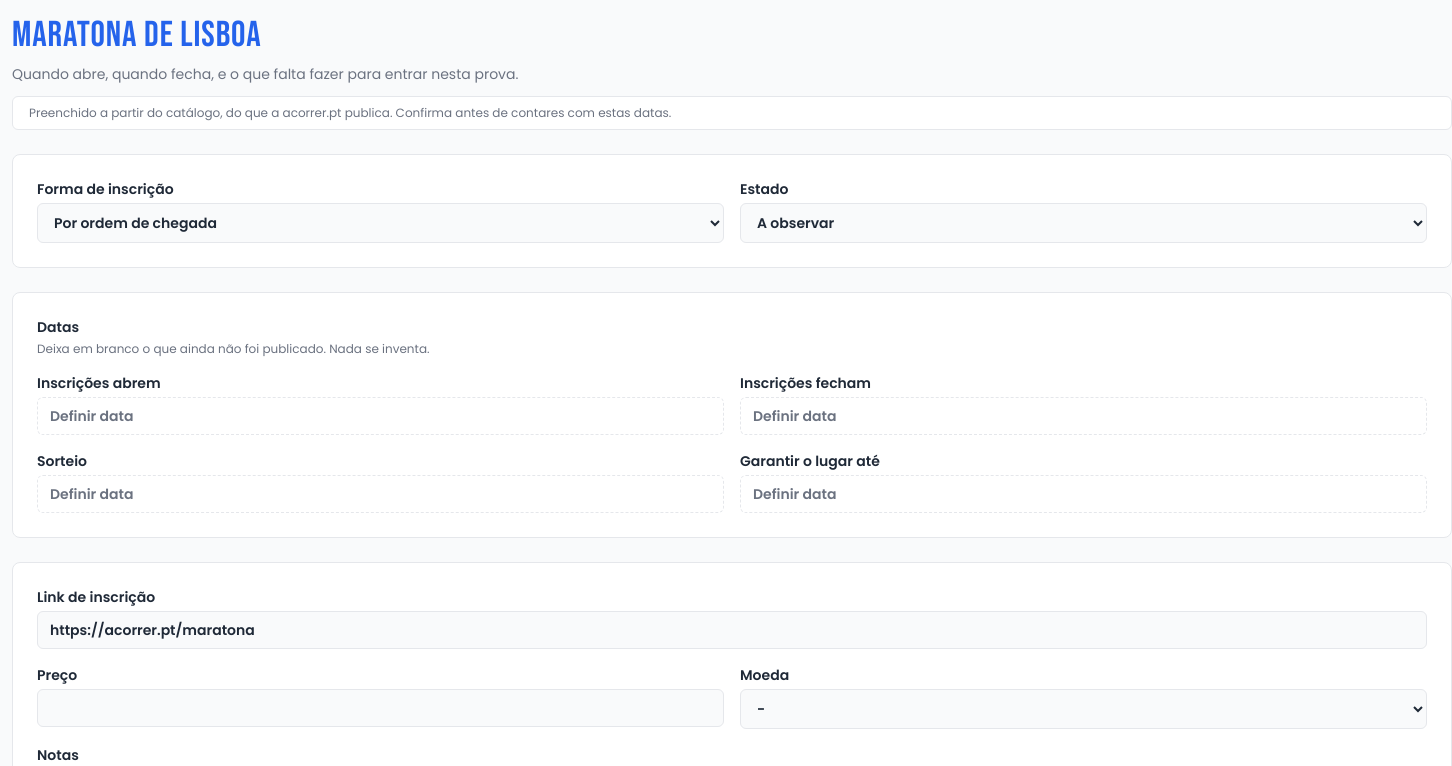
Scenario: what the runner tells the catalog back › says so when a fee would be dropped for having no currency
The width and height of the screenshot is (1452, 766).
Expected: the dropdown labelled "Forma de inscrição" shows "Por ordem de chegada", [37,203,724,243]
In the number field labelled "Preço": (380, 708) [37,689,724,727], type "45"
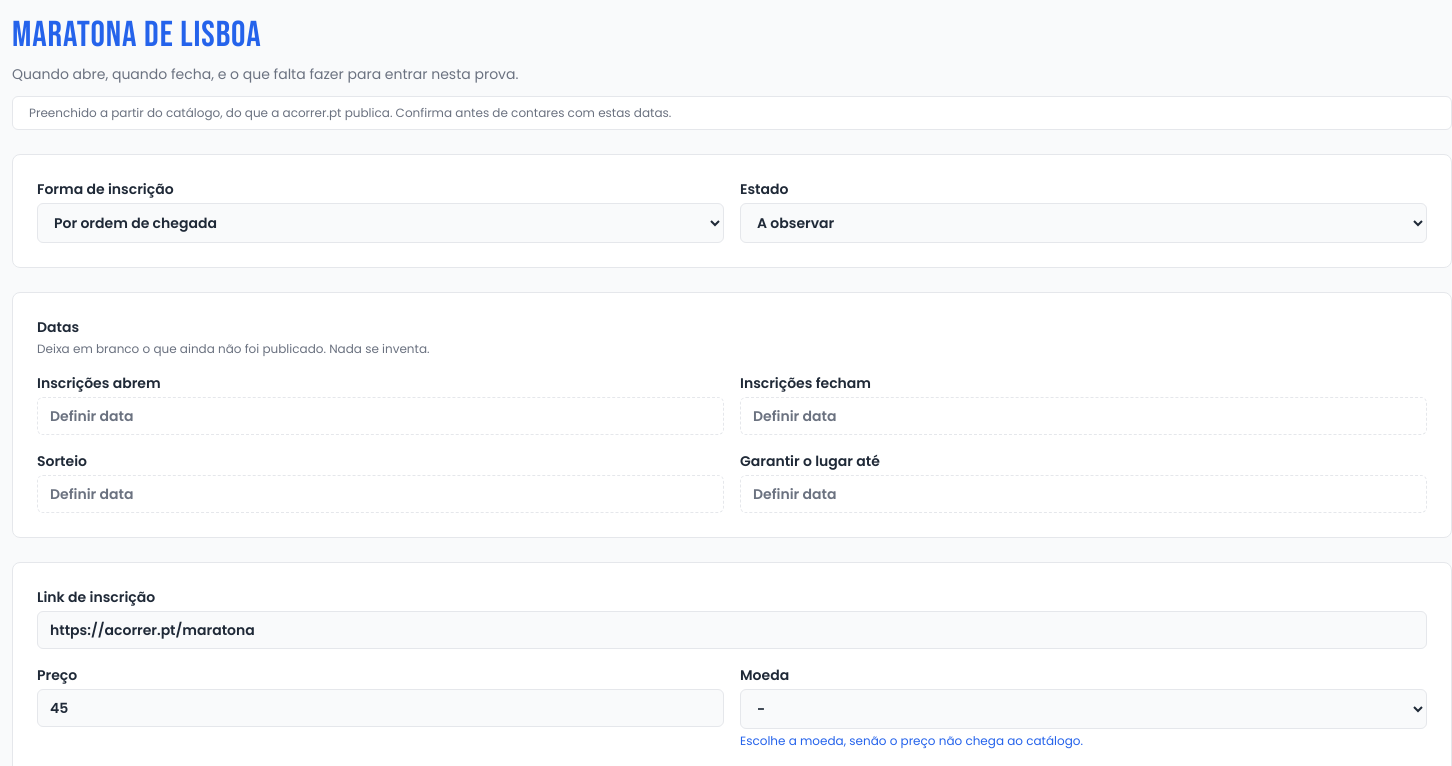
Expected: the text "Escolhe a moeda, senão o preço não chega ao catálogo." is shown, [740,732,1083,749]
